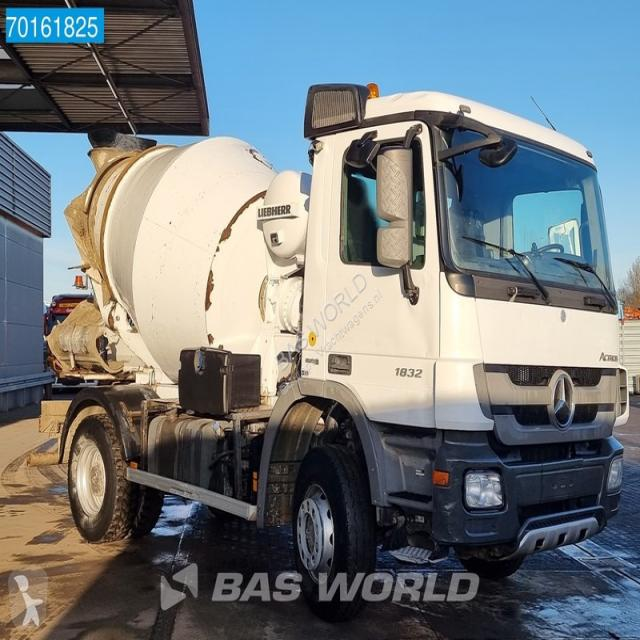Mixer Truck: (28, 84, 630, 614)
